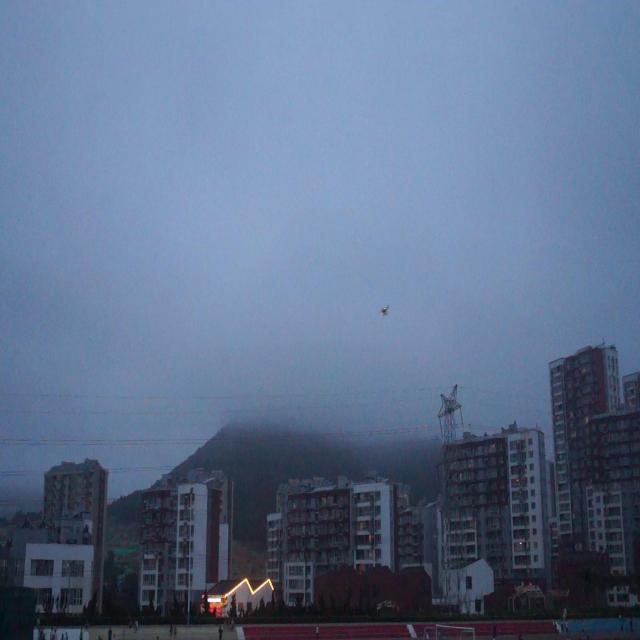UAV: (380, 304, 389, 318)
